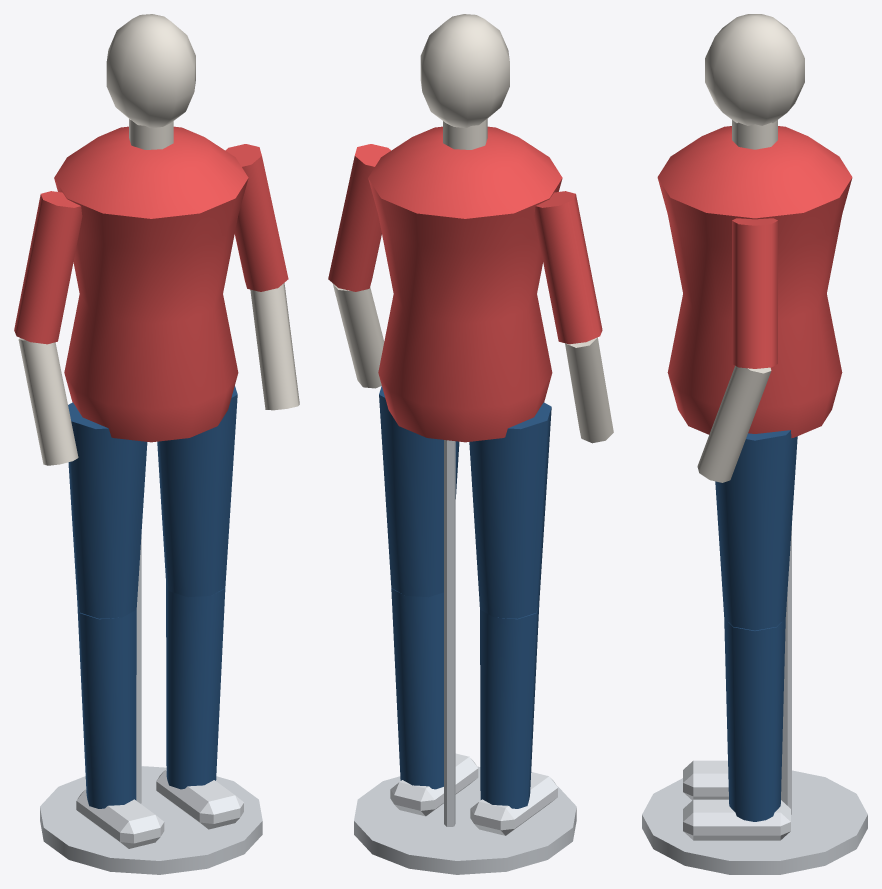
File: mannequin.glb
3 views of the same model, side by side, from view 1: azimuth 30°, elevation 25°; view 2: azimuth 150°, elevation 25°; view 3: azimuth 270°, elevation 25° (orthographic).
Visible parts, largest first — view 1: mannequin; view 2: mannequin; view 3: mannequin.
Part boxes in pixels (left/top/right/bottom): mannequin: left=14, top=14, right=299, bottom=874; mannequin: left=328, top=14, right=613, bottom=874; mannequin: left=642, top=14, right=867, bottom=874.
Bounding box in the file's own units: 0.608 × 1.75 × 0.44.
